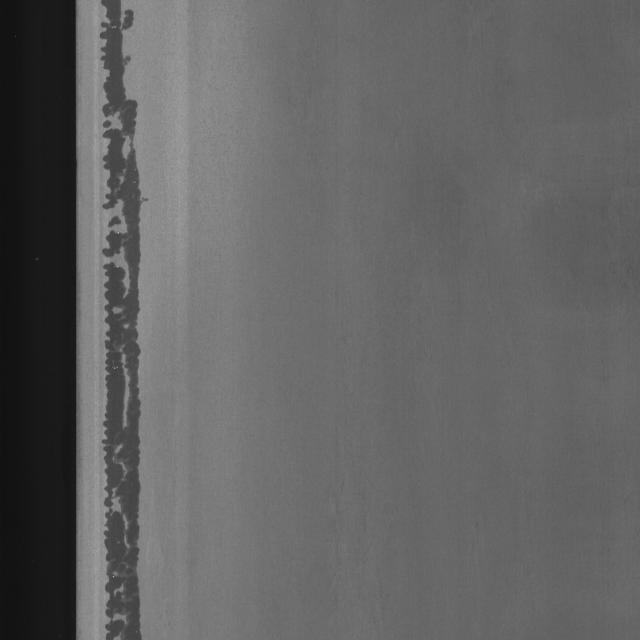welding_line: (91, 0, 175, 639)
